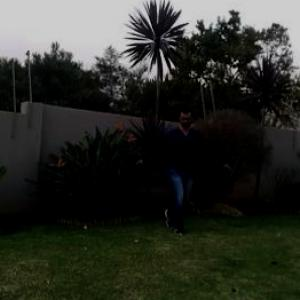land: (122, 96, 232, 236)
